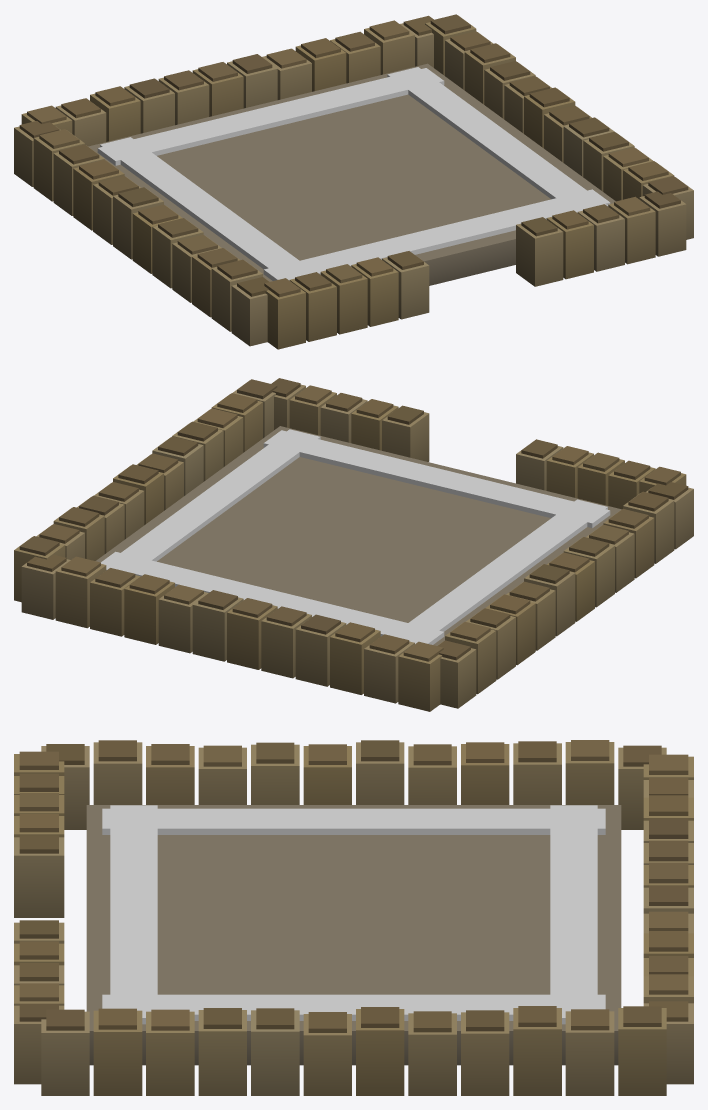
Rendered from m_turret_1c43ac42.glb.
3 views of the same model, one above another, from view 1: azimuth 30°, elevation 25°; view 2: azimuth 150°, elevation 25°; view 3: azimuth 270°, elevation 25° (orthographic). The views are drawn at different scales.
Visible parts, largest first — view 1: mesh; view 2: mesh; view 3: mesh.
Boxes of the visible parts, left/top/right/bottom form: mesh: left=14, top=14, right=693, bottom=349; mesh: left=14, top=378, right=693, bottom=711; mesh: left=14, top=740, right=693, bottom=1095.
Size of the model in its own units: 43.11 by 4.98 by 43.11.
